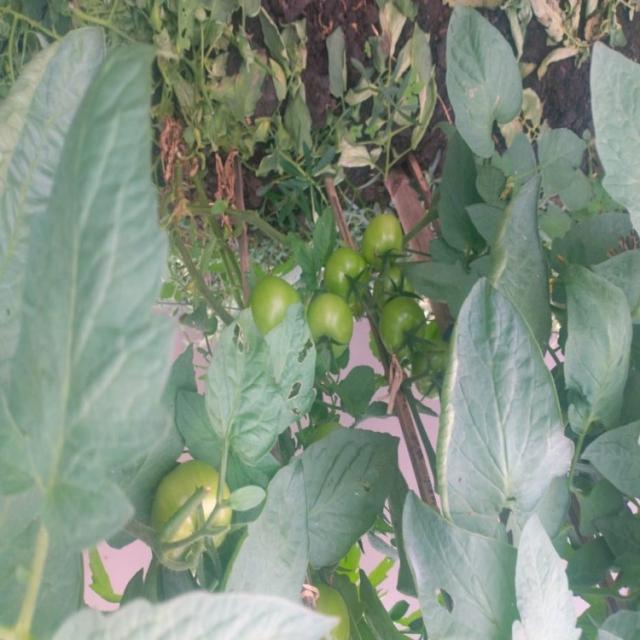tomato: (153, 450, 243, 551), (296, 287, 362, 353), (378, 294, 436, 365), (399, 348, 465, 405), (358, 210, 420, 270), (254, 265, 300, 344), (322, 246, 375, 308), (372, 266, 414, 304)
